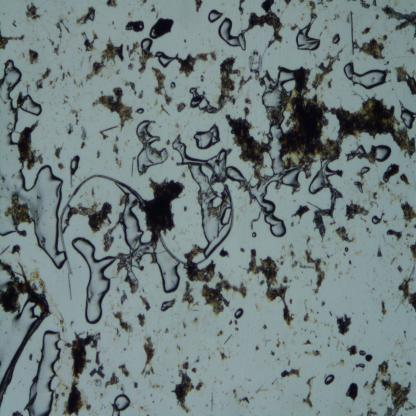Air bubble: (0, 55, 66, 274), (228, 164, 286, 237), (70, 236, 118, 324), (186, 165, 232, 252), (116, 191, 150, 293), (24, 328, 61, 416), (263, 120, 302, 191), (134, 120, 170, 176), (150, 242, 179, 298), (342, 60, 390, 90), (307, 160, 333, 195), (172, 136, 204, 164), (16, 89, 45, 119), (208, 148, 231, 181), (110, 392, 132, 414), (375, 144, 391, 163), (352, 143, 366, 159), (70, 154, 80, 176), (159, 298, 174, 312), (324, 374, 335, 386), (359, 166, 371, 174), (135, 106, 145, 115), (168, 81, 177, 90), (372, 215, 380, 224), (358, 349, 366, 357), (356, 363, 365, 368), (252, 232, 257, 238), (345, 245, 348, 252)
Background material: (284, 64, 342, 172), (329, 94, 416, 160), (243, 246, 297, 328), (62, 330, 102, 416), (361, 356, 415, 416), (0, 260, 53, 315), (225, 112, 266, 177), (204, 53, 245, 116), (65, 196, 116, 239), (246, 0, 285, 48), (200, 276, 249, 314), (86, 37, 126, 82), (172, 356, 204, 412), (308, 188, 341, 240), (96, 88, 136, 128), (17, 119, 49, 168), (183, 244, 217, 284), (312, 48, 342, 89), (382, 4, 416, 38), (302, 249, 326, 294), (8, 191, 34, 232), (151, 67, 174, 103), (392, 63, 416, 96), (174, 51, 208, 73), (140, 334, 155, 380), (359, 38, 388, 60), (397, 278, 416, 311), (0, 27, 26, 50), (344, 199, 370, 222), (347, 9, 360, 54), (302, 372, 317, 410), (150, 17, 174, 40), (376, 164, 398, 189), (182, 278, 198, 311), (249, 49, 264, 80), (104, 221, 120, 250), (114, 312, 133, 336), (400, 200, 416, 228), (334, 224, 357, 243), (82, 29, 99, 54), (138, 52, 153, 80), (23, 2, 43, 22), (335, 314, 353, 336), (232, 387, 251, 407), (78, 6, 98, 24), (35, 68, 52, 89), (290, 203, 310, 220), (126, 39, 141, 61), (57, 19, 73, 39), (345, 381, 359, 402), (97, 126, 116, 140), (72, 106, 86, 125), (124, 21, 145, 33), (107, 372, 121, 390), (308, 0, 318, 25), (215, 346, 230, 362), (384, 229, 404, 241), (385, 189, 402, 203), (366, 144, 377, 165), (27, 49, 41, 65), (56, 314, 68, 332), (280, 370, 300, 380), (123, 80, 136, 94), (175, 101, 188, 115), (353, 180, 366, 194), (303, 312, 318, 324), (78, 121, 87, 141), (207, 47, 219, 62), (148, 378, 163, 390), (114, 155, 126, 170), (119, 289, 130, 305), (407, 242, 416, 261), (192, 0, 204, 14), (10, 242, 22, 256), (118, 364, 130, 378), (400, 172, 411, 187), (137, 312, 147, 328), (223, 332, 235, 345), (218, 247, 231, 259), (55, 144, 66, 158), (63, 122, 74, 136), (301, 349, 322, 356), (72, 75, 84, 87), (139, 294, 150, 307), (254, 381, 265, 394), (346, 345, 358, 356), (104, 0, 117, 10), (359, 0, 372, 10), (239, 0, 247, 16), (54, 41, 63, 55), (155, 105, 166, 116), (125, 61, 136, 72), (94, 376, 104, 388), (305, 232, 313, 247), (57, 380, 68, 390), (110, 144, 120, 155), (39, 236, 49, 247), (114, 325, 122, 338), (137, 404, 150, 412), (369, 199, 379, 209), (291, 258, 301, 268), (88, 185, 96, 197), (64, 95, 72, 107), (278, 254, 285, 267), (361, 26, 371, 35), (62, 340, 73, 348), (68, 174, 75, 186), (210, 391, 214, 412), (364, 354, 374, 362), (290, 22, 298, 32), (244, 107, 252, 117), (214, 328, 224, 336), (302, 298, 308, 311), (383, 217, 390, 228), (94, 148, 101, 159), (60, 71, 66, 83), (303, 338, 312, 346), (382, 299, 386, 317), (290, 249, 296, 261), (283, 275, 291, 284), (390, 254, 398, 263), (243, 97, 252, 105), (376, 247, 383, 257), (300, 264, 314, 269), (365, 224, 372, 234), (76, 44, 84, 52), (54, 392, 62, 400), (164, 326, 172, 334), (58, 389, 66, 397), (272, 380, 280, 388), (291, 187, 298, 196), (20, 49, 26, 59), (80, 140, 86, 150), (332, 11, 338, 21), (282, 0, 292, 6), (354, 251, 364, 257), (181, 319, 187, 329), (47, 38, 54, 46), (408, 47, 415, 55), (346, 154, 353, 162), (334, 262, 341, 270), (337, 169, 345, 176), (288, 296, 294, 305), (0, 174, 6, 183), (327, 80, 333, 89), (335, 360, 345, 365), (218, 270, 223, 280), (70, 319, 76, 327), (113, 135, 121, 141), (12, 18, 18, 26), (403, 327, 407, 339), (85, 404, 91, 412), (317, 0, 325, 6), (382, 34, 388, 42), (326, 336, 330, 347), (329, 220, 335, 227), (152, 99, 158, 106), (373, 193, 379, 200), (67, 71, 72, 79), (335, 340, 339, 350), (151, 4, 156, 12), (255, 344, 260, 352), (50, 82, 56, 88), (320, 301, 326, 307), (194, 316, 198, 325), (371, 0, 377, 6), (406, 233, 413, 238), (263, 323, 268, 330), (276, 6, 281, 13), (228, 319, 233, 326), (323, 322, 330, 327), (182, 37, 186, 45), (139, 91, 143, 99), (290, 220, 294, 228), (329, 309, 333, 317), (338, 271, 342, 279), (396, 178, 400, 186), (310, 329, 316, 334), (141, 0, 146, 6), (59, 65, 64, 71), (176, 344, 181, 350), (277, 338, 280, 348), (270, 351, 275, 357), (100, 391, 104, 398), (310, 307, 314, 314), (348, 258, 352, 265), (375, 15, 380, 20), (202, 76, 206, 82), (60, 163, 64, 169), (413, 222, 416, 230), (166, 140, 170, 146), (234, 326, 240, 330), (287, 359, 291, 365), (299, 0, 305, 4), (148, 392, 152, 398), (54, 76, 57, 83), (122, 347, 126, 352), (37, 38, 41, 43), (326, 254, 330, 259), (224, 391, 228, 396), (386, 60, 390, 64), (400, 251, 403, 256), (146, 413, 151, 416), (326, 0, 333, 2), (113, 21, 116, 25), (324, 260, 326, 266), (284, 340, 286, 346), (366, 319, 368, 324), (184, 331, 186, 336), (68, 11, 70, 15), (152, 400, 154, 404), (315, 335, 317, 338), (317, 311, 319, 313)
Cellulose filter fibre: (0, 290, 50, 395)
Diatom: (261, 68, 295, 108), (218, 17, 247, 51), (295, 22, 321, 52), (194, 123, 220, 150), (188, 87, 204, 110), (400, 107, 416, 128), (155, 50, 172, 68), (140, 38, 155, 54), (207, 9, 223, 23), (88, 339, 98, 349), (234, 309, 244, 319), (88, 368, 97, 378), (332, 33, 340, 44), (97, 369, 105, 378), (27, 352, 34, 362), (397, 264, 403, 272), (145, 304, 151, 311), (133, 382, 138, 390), (239, 247, 245, 253), (250, 221, 254, 230), (252, 218, 259, 222), (260, 280, 264, 286), (234, 319, 238, 325)
Microfibre: (55, 160, 237, 288)
